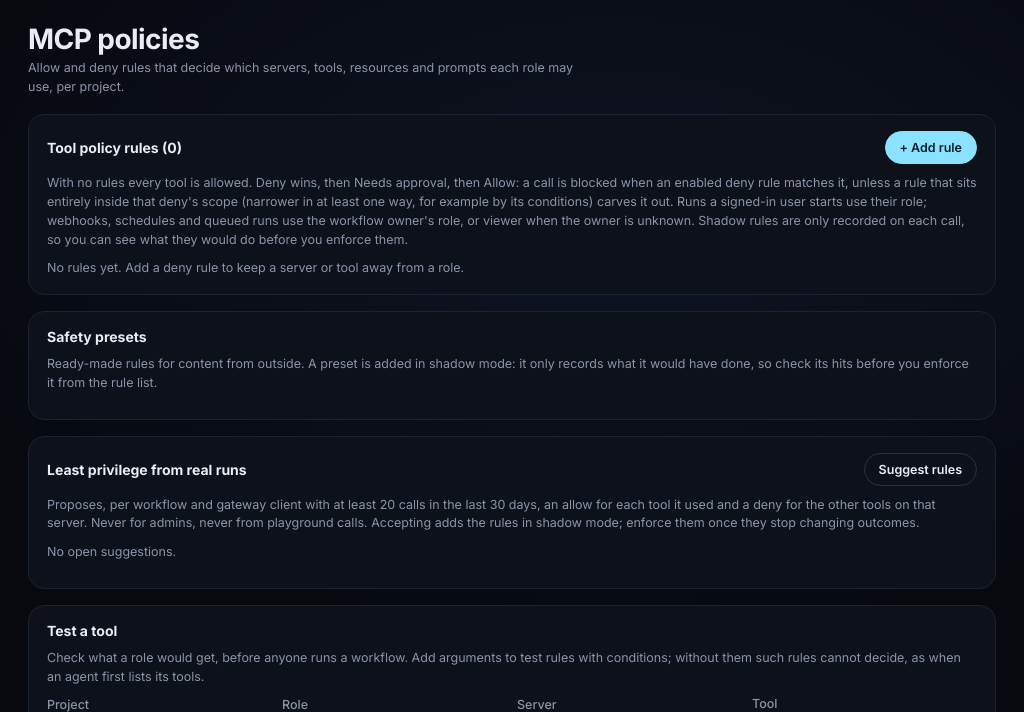
Test case: MCP tool policy UI › adds a rule that targets destructive tools and shows the condition in the list
Click the button "+ Add rule": (931, 148) left=884, top=131, right=977, bottom=164
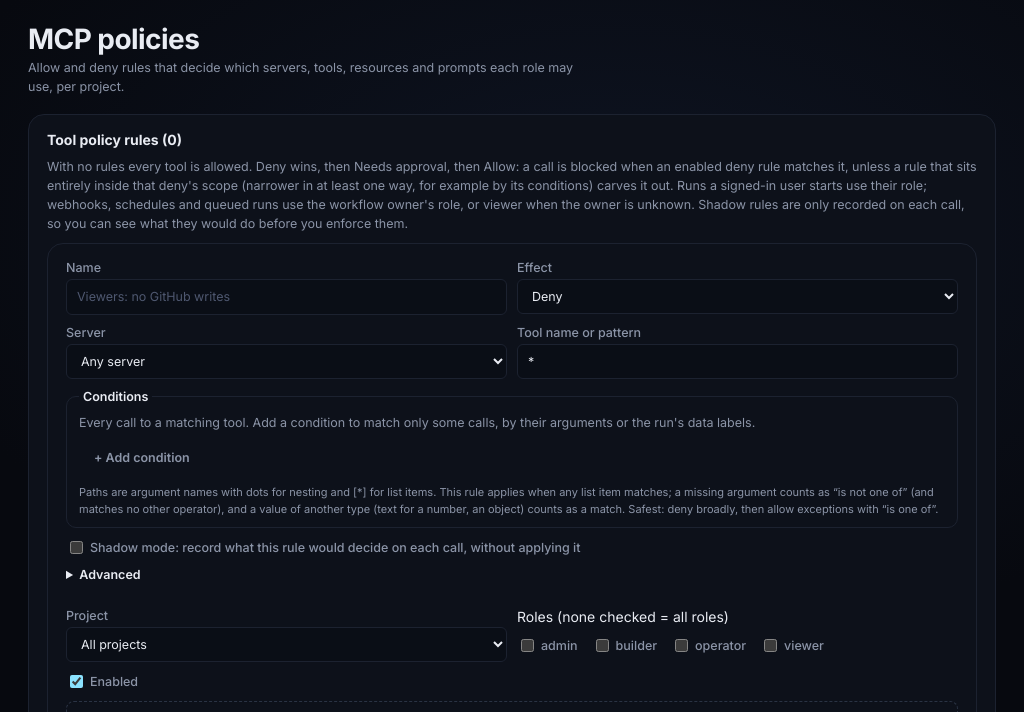
In the field labelled "Name": (286, 297) left=66, top=279, right=507, bottom=315, type "Operators: no destructive tools"
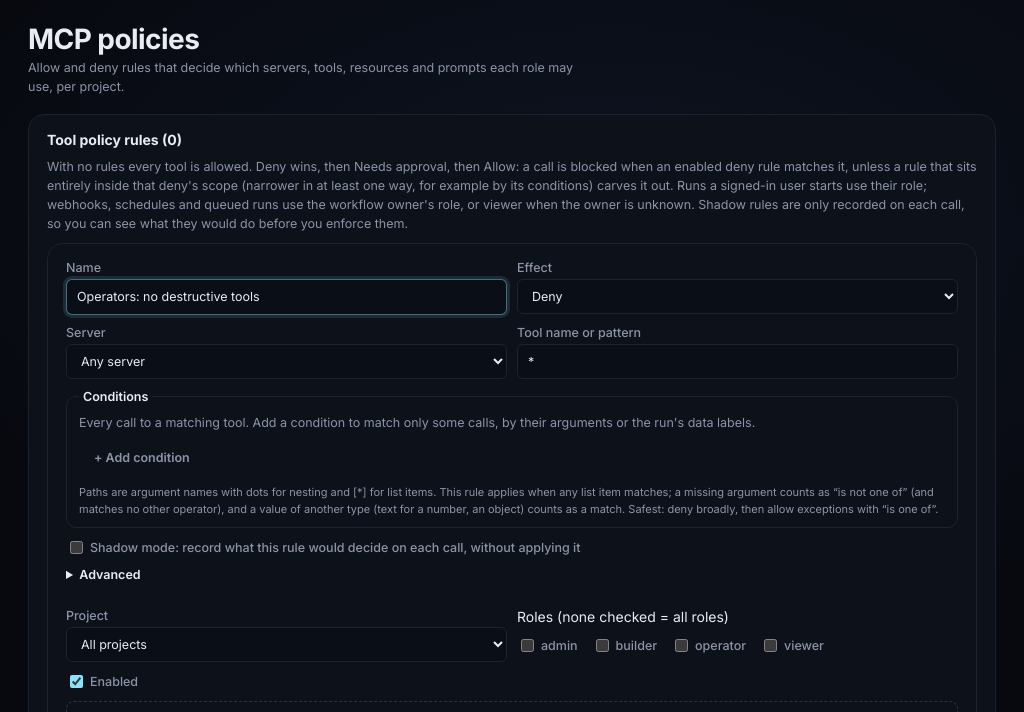
Click the checkbox labelled "operator": (682, 646) left=675, top=639, right=688, bottom=652
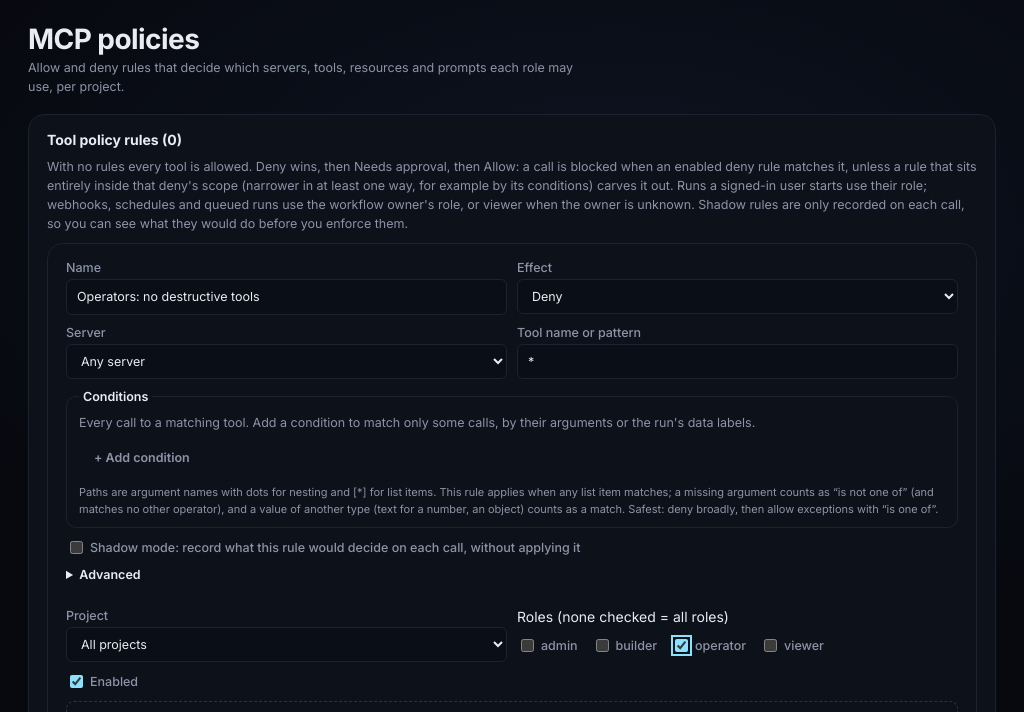
Click the heading "Advanced": (110, 574) left=79, top=567, right=141, bottom=582
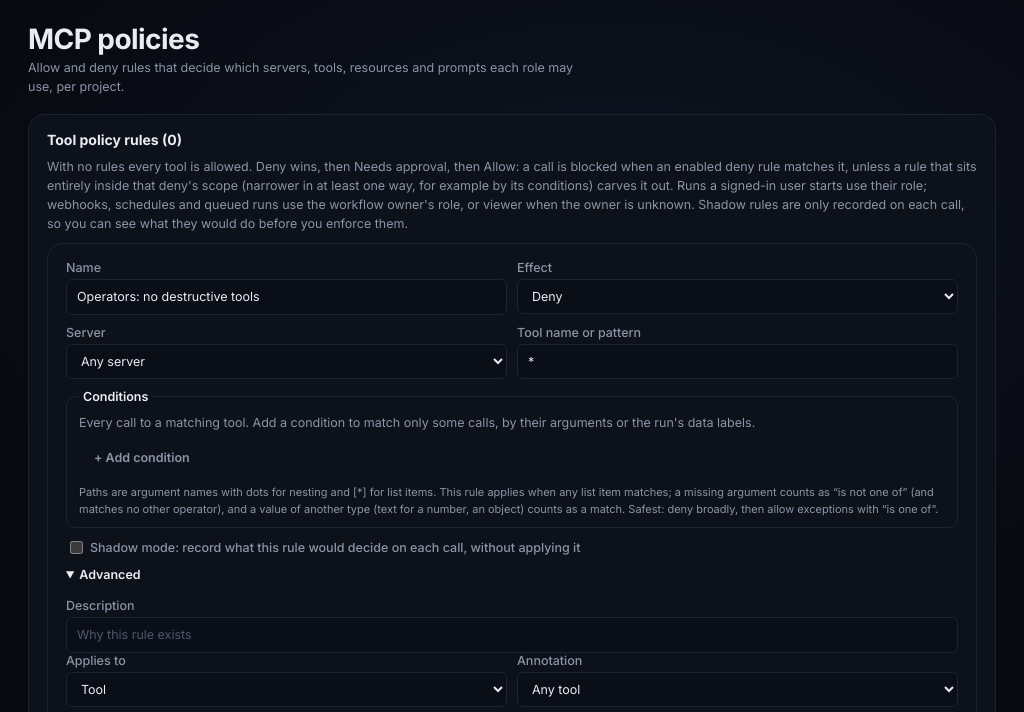
Select "Destructive tools" in the dropdown named "Annotation condition": (738, 689) left=517, top=672, right=958, bottom=706
(page scrolled)
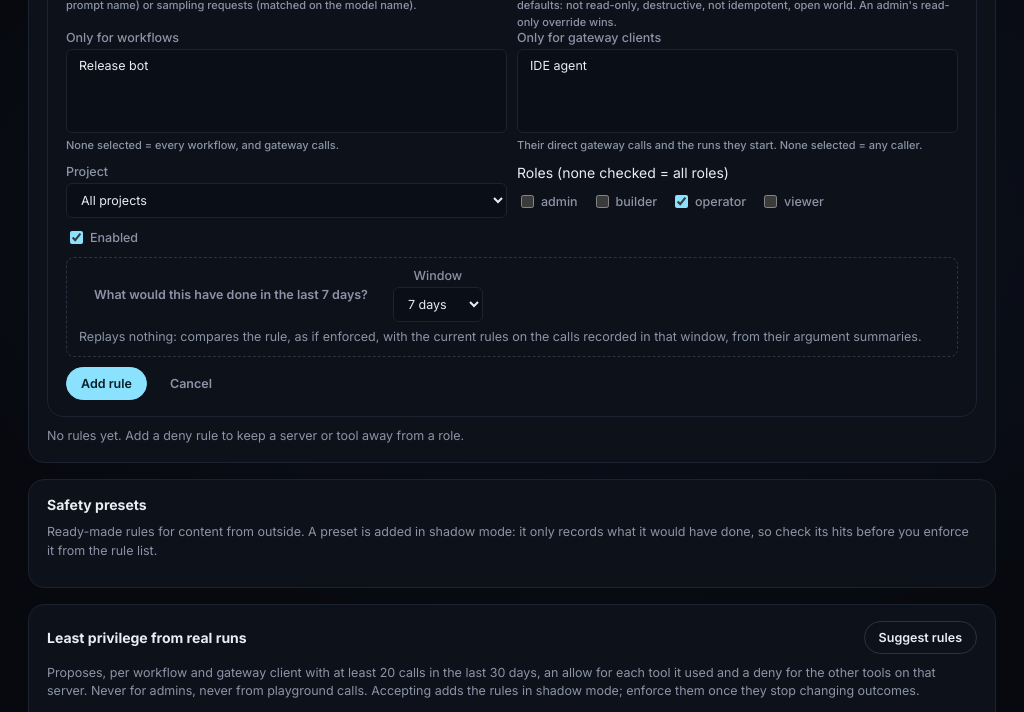
Click the button "Add rule": (106, 384) left=66, top=367, right=147, bottom=400
(page scrolled)
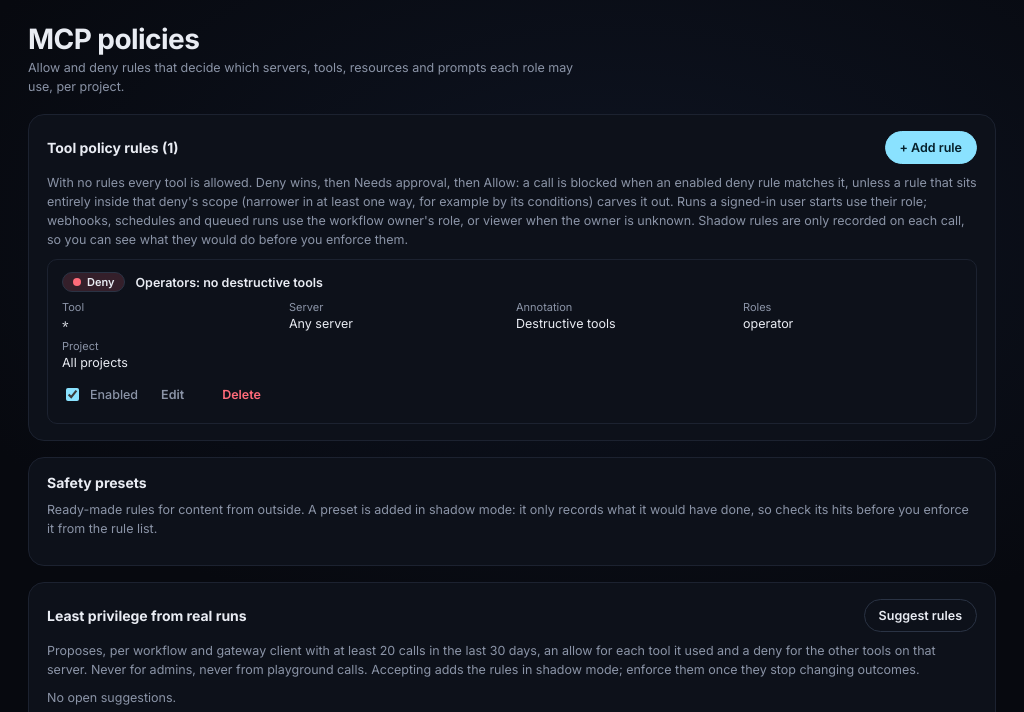
Expected: the text "Destructive tools" is shown, left=516, top=316, right=616, bottom=331
